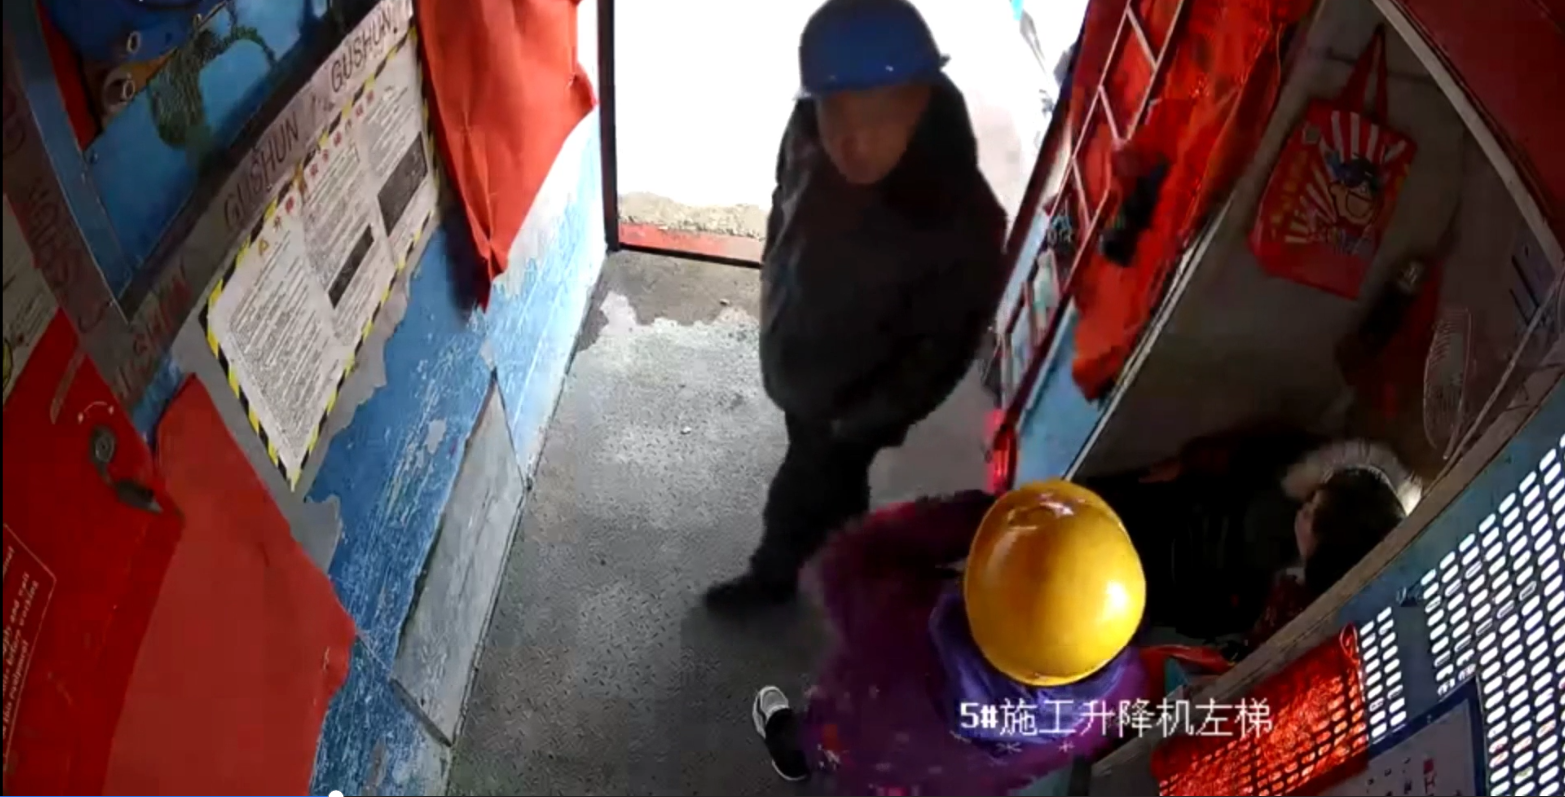person: (699, 1, 1006, 626), (742, 480, 1147, 797)
